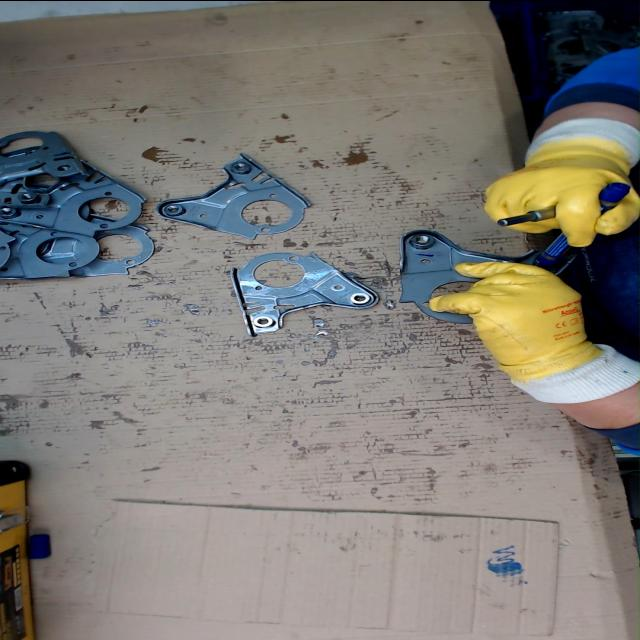hands: (426, 260, 584, 376), (476, 142, 640, 248)
